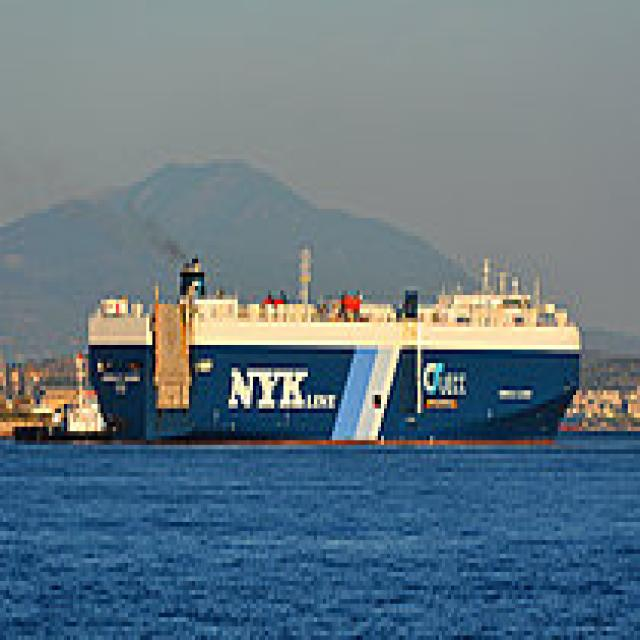Carrier: (82, 254, 582, 445)
